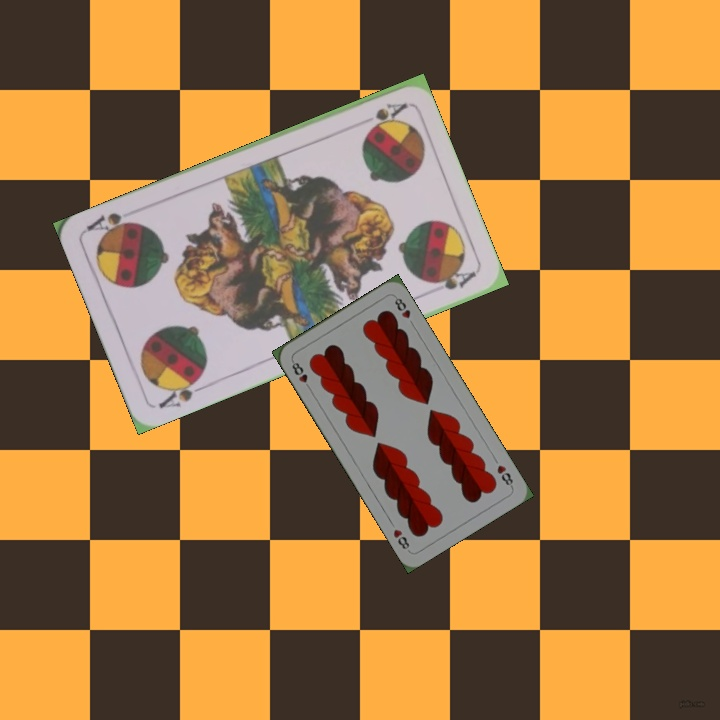H8: (288, 356, 314, 393), (493, 461, 516, 490)
SA: (154, 371, 209, 411), (365, 98, 409, 131)
